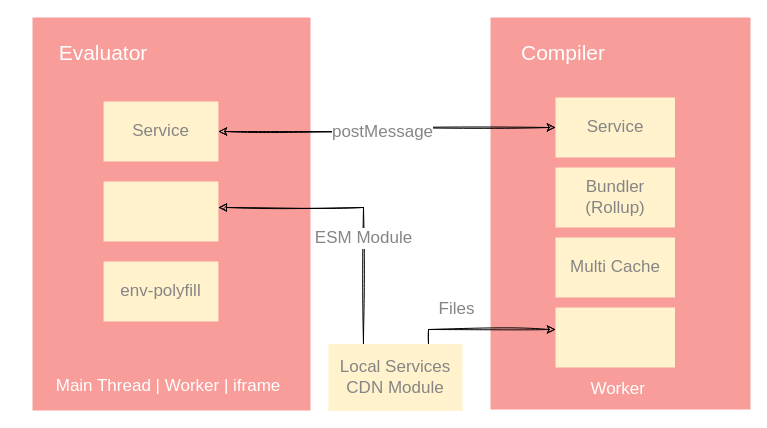
Some shapes in this 767 by 428 pixel diagram are drawn without their labels. The box of each missing label's shape, as (x1, y1, x2, y2) in pixels:
Fetcher: (555, 307, 674, 367)
systemjs: (103, 181, 218, 241)
